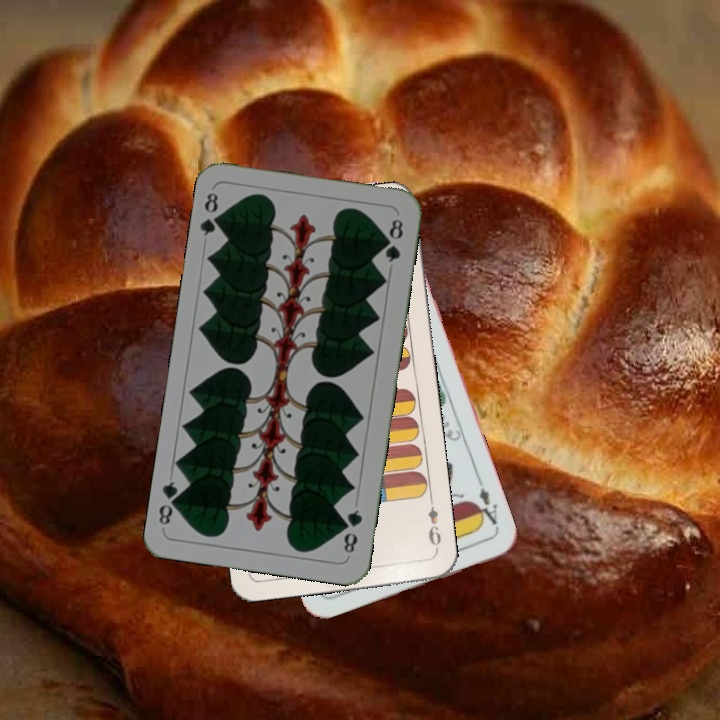E9: (424, 495, 444, 554)
EA: (470, 484, 501, 532)
G8: (196, 188, 226, 239), (339, 505, 365, 556)
